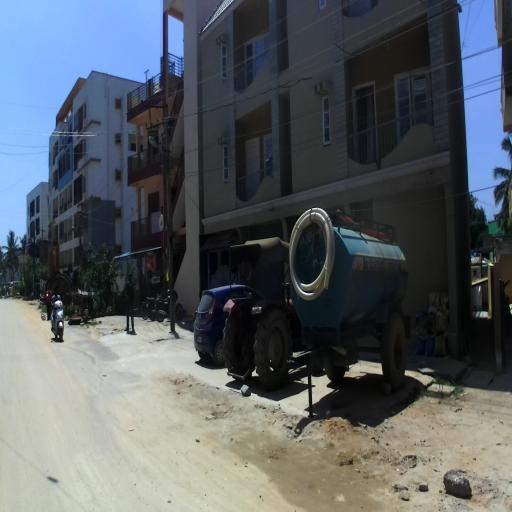street_light_0: (148, 136, 171, 175), (72, 227, 82, 244)
